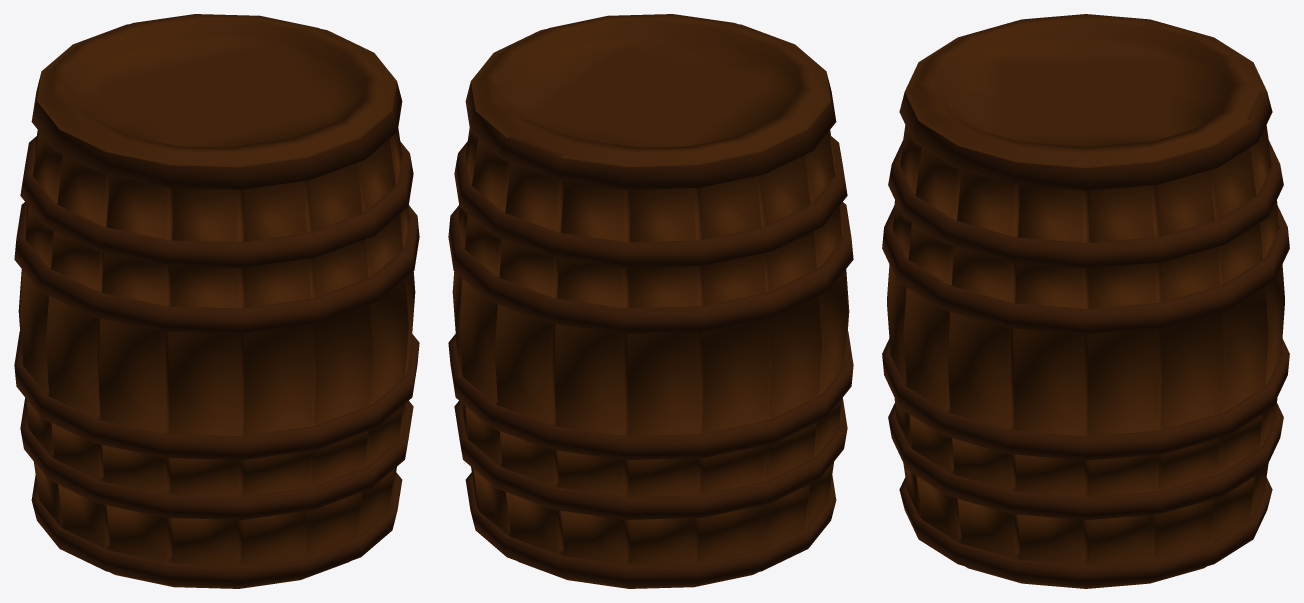
Rendered from OilBarrel.fbx.
3 renders of one model, left to right at view 1: azimuth 30°, elevation 25°; view 2: azimuth 150°, elevation 25°; view 3: azimuth 270°, elevation 25°, orthographic.
Visible parts, largest first — view 1: OilBarrel_Wood, OilBarrel_Bands; view 2: OilBarrel_Wood, OilBarrel_Bands; view 3: OilBarrel_Wood, OilBarrel_Bands.
Boxes of the visible parts, x1,y1,x2,y2 form: OilBarrel_Wood: (18, 14, 415, 588); OilBarrel_Bands: (14, 24, 419, 586); OilBarrel_Wood: (452, 14, 849, 588); OilBarrel_Bands: (448, 73, 853, 586); OilBarrel_Wood: (887, 14, 1284, 588); OilBarrel_Bands: (882, 91, 1289, 586).
Bounding box in the file's own units: 1.31 × 1.54 × 1.31.
